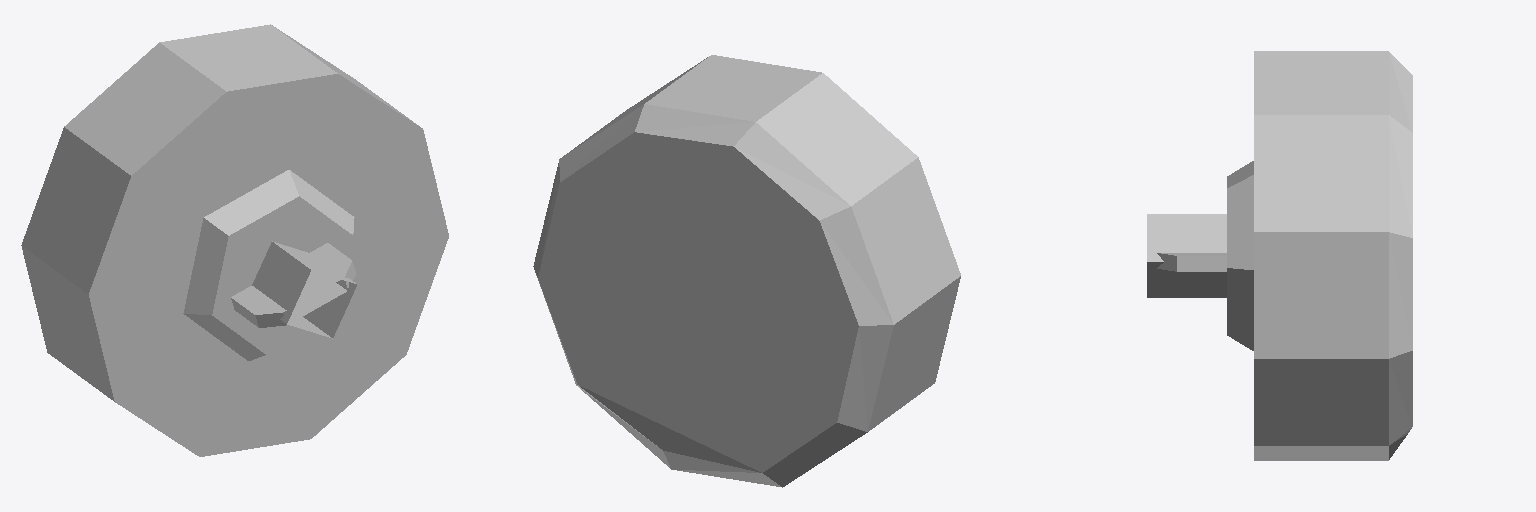
The model's file is wheel173.obj.
3 views of the same model, side by side, from view 1: azimuth 30°, elevation 25°; view 2: azimuth 150°, elevation 25°; view 3: azimuth 270°, elevation 25° (orthographic).
Visible parts, largest first — view 1: wheel_low_textures; view 2: wheel_low_textures; view 3: wheel_low_textures.
Boxes of the visible parts, x1=… form: wheel_low_textures: x1=21, y1=24, x2=448, y2=456; wheel_low_textures: x1=533, y1=55, x2=960, y2=487; wheel_low_textures: x1=1147, y1=51, x2=1412, y2=460.
Bounding box in the file's own units: 1.56 × 1.52 × 0.9907.